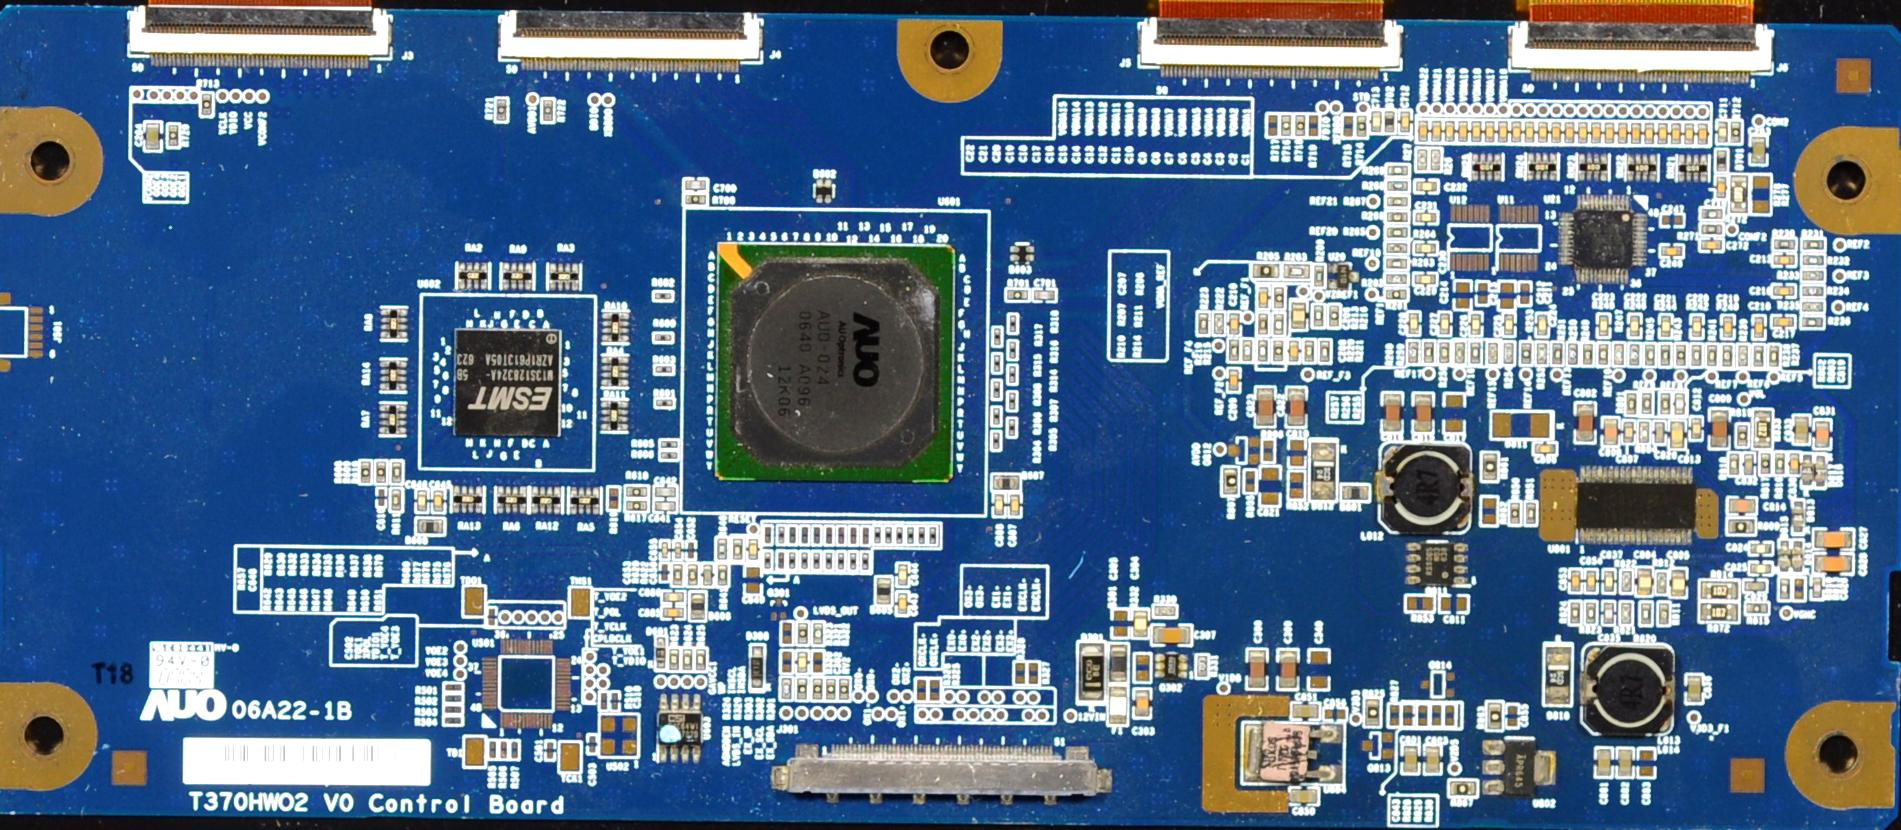Capacitor Jumper: (742, 565, 766, 601), (1260, 468, 1283, 502), (1814, 528, 1854, 548), (1255, 389, 1275, 425), (1153, 625, 1191, 645), (1576, 403, 1594, 443), (1248, 648, 1266, 688), (1383, 394, 1402, 433), (1414, 394, 1432, 433), (1749, 133, 1770, 165), (1288, 388, 1303, 427), (1286, 437, 1307, 466), (1311, 651, 1326, 688), (1280, 652, 1296, 689), (1711, 410, 1726, 446), (1616, 745, 1633, 778), (1290, 789, 1320, 807), (1113, 611, 1132, 639), (1132, 689, 1152, 717), (1793, 414, 1810, 446), (1439, 596, 1469, 613), (989, 491, 1005, 522), (1406, 311, 1425, 338), (1671, 420, 1686, 451), (1595, 746, 1610, 779), (1295, 700, 1319, 720), (1439, 309, 1455, 337), (1728, 498, 1756, 514), (1686, 676, 1702, 704), (1402, 744, 1417, 772), (1532, 310, 1549, 336), (1718, 315, 1735, 339), (1770, 254, 1798, 269), (1816, 422, 1831, 450), (1007, 492, 1022, 520), (1279, 110, 1292, 141), (415, 488, 430, 514), (1749, 542, 1775, 557), (1135, 612, 1151, 637), (1501, 315, 1518, 338), (744, 538, 761, 561), (661, 589, 687, 603), (795, 651, 810, 677), (1425, 745, 1439, 772), (1416, 179, 1440, 195), (145, 124, 160, 149), (1414, 273, 1439, 287), (1469, 310, 1484, 336), (432, 488, 446, 514), (1749, 562, 1775, 577), (668, 647, 683, 672), (693, 648, 708, 674), (684, 193, 710, 206), (1769, 314, 1796, 327), (1227, 311, 1240, 338), (1655, 422, 1668, 448), (685, 178, 709, 193), (1700, 239, 1724, 253), (1659, 313, 1672, 338), (1623, 420, 1637, 446), (1602, 600, 1615, 625), (1605, 418, 1617, 446), (700, 563, 714, 586), (1810, 577, 1825, 600), (1249, 437, 1260, 468), (1672, 393, 1688, 413), (1616, 120, 1629, 144), (1414, 241, 1438, 254), (1288, 339, 1301, 364), (1788, 452, 1802, 476), (896, 563, 909, 588), (778, 676, 792, 700), (1445, 115, 1456, 144), (681, 647, 693, 672), (814, 652, 826, 677), (1576, 120, 1589, 143), (1696, 122, 1709, 145), (1661, 244, 1684, 257), (1256, 287, 1269, 310), (781, 649, 794, 672), (1418, 116, 1429, 144), (1774, 284, 1794, 298), (1469, 118, 1482, 142), (1629, 313, 1642, 337), (1691, 314, 1703, 338), (1570, 568, 1582, 593), (662, 605, 686, 617), (1431, 115, 1442, 142), (1498, 115, 1509, 142), (1656, 122, 1669, 144), (1033, 288, 1055, 302), (1690, 417, 1703, 439), (896, 591, 909, 613), (1296, 110, 1306, 139), (1399, 110, 1411, 133), (1458, 116, 1469, 142), (1484, 116, 1495, 142), (1536, 119, 1547, 144), (1644, 121, 1655, 147), (1551, 118, 1562, 142), (1535, 443, 1557, 456), (660, 539, 672, 561), (782, 622, 794, 643), (1604, 121, 1615, 144), (1671, 121, 1682, 144), (1414, 212, 1437, 223), (1753, 315, 1764, 338), (1743, 454, 1754, 477), (1685, 119, 1695, 144), (1524, 121, 1535, 143), (1591, 122, 1602, 144), (1599, 315, 1610, 337), (1512, 118, 1522, 142), (1268, 111, 1277, 138), (656, 486, 677, 497), (1604, 568, 1614, 591), (1717, 119, 1726, 141), (1565, 120, 1574, 144), (1632, 121, 1640, 145), (1716, 173, 1724, 198), (675, 537, 684, 561), (1229, 370, 1238, 393), (1587, 569, 1595, 593), (655, 503, 675, 510)
Connector: (1484, 1, 1788, 87), (122, 2, 406, 70), (490, 13, 776, 74)
IC: (712, 241, 959, 480), (432, 302, 584, 465), (1576, 466, 1696, 546), (1553, 195, 1652, 288), (480, 639, 571, 727), (657, 693, 702, 763)
Resistor Jumper: (1700, 578, 1737, 601), (1699, 601, 1739, 622), (1751, 177, 1771, 213), (1363, 698, 1382, 729), (1732, 174, 1747, 214), (1729, 517, 1756, 537), (1404, 595, 1434, 612), (1289, 473, 1306, 500), (1621, 390, 1639, 416), (1486, 700, 1502, 729), (1482, 454, 1498, 481), (1797, 253, 1827, 268), (492, 93, 508, 121), (419, 520, 447, 536), (1354, 111, 1369, 141), (1702, 343, 1718, 370), (624, 483, 651, 499), (1252, 264, 1278, 280), (989, 350, 1005, 376), (714, 538, 731, 561), (1796, 300, 1827, 313), (1656, 344, 1674, 365), (1222, 466, 1235, 494), (1385, 286, 1410, 300), (824, 677, 839, 703), (812, 677, 827, 703), (1804, 236, 1827, 252), (373, 460, 389, 483), (794, 679, 810, 702), (1318, 338, 1331, 365), (1585, 601, 1598, 628), (1385, 241, 1409, 256), (389, 459, 404, 483), (390, 487, 403, 516), (991, 428, 1004, 453), (359, 459, 372, 485), (626, 499, 651, 513), (810, 521, 823, 546), (1735, 423, 1749, 446), (1005, 288, 1029, 302), (1640, 390, 1654, 414), (1654, 571, 1667, 595), (1745, 601, 1769, 614), (1657, 601, 1671, 625), (1720, 347, 1735, 368), (1659, 393, 1673, 414), (715, 563, 730, 585), (1509, 500, 1522, 526), (1774, 239, 1797, 252), (1501, 340, 1514, 364), (1620, 602, 1633, 625), (1385, 258, 1409, 270), (1802, 317, 1826, 330), (991, 405, 1003, 429), (1385, 165, 1411, 176), (1612, 343, 1626, 365), (1736, 343, 1749, 365), (542, 99, 554, 122), (1730, 120, 1742, 143), (1006, 339, 1018, 362), (1519, 342, 1531, 365), (1007, 390, 1020, 413), (1780, 578, 1792, 601), (814, 623, 826, 646), (839, 679, 851, 702), (1385, 198, 1410, 208), (1799, 285, 1825, 296), (1273, 284, 1284, 309), (993, 325, 1004, 350), (1570, 601, 1581, 626), (1551, 340, 1564, 361), (1271, 340, 1284, 361), (1642, 344, 1655, 365), (443, 714, 463, 727), (201, 92, 212, 116), (1387, 179, 1409, 191), (1804, 269, 1826, 281), (1312, 304, 1323, 328), (1330, 304, 1341, 328), (1198, 313, 1209, 337), (1007, 315, 1020, 337), (1406, 342, 1418, 364), (1488, 343, 1500, 365), (993, 380, 1004, 405), (1760, 452, 1772, 474), (1525, 500, 1536, 525), (1640, 602, 1652, 624), (798, 622, 810, 643), (1700, 224, 1723, 235), (1582, 343, 1593, 366), (1775, 452, 1786, 475), (837, 523, 847, 546), (926, 526, 937, 549), (906, 526, 917, 549), (732, 537, 743, 560), (687, 565, 698, 588), (498, 738, 509, 761), (1688, 344, 1700, 365), (443, 681, 463, 693), (1622, 569, 1632, 595), (1702, 207, 1720, 221), (1385, 227, 1406, 237), (1455, 342, 1466, 364), (861, 550, 872, 572), (443, 693, 464, 704), (489, 739, 499, 761), (169, 124, 178, 148), (1260, 311, 1269, 336), (1752, 344, 1764, 364), (861, 523, 869, 550), (1007, 417, 1018, 437), (847, 551, 858, 572), (1770, 343, 1780, 366), (674, 563, 684, 586), (1439, 343, 1450, 362), (787, 551, 798, 571), (509, 740, 520, 760), (1675, 342, 1684, 366), (1386, 274, 1406, 284), (1471, 343, 1480, 364), (1423, 343, 1433, 364), (837, 551, 846, 572), (443, 705, 463, 715), (1303, 342, 1314, 360), (761, 526, 772, 544), (775, 551, 786, 569), (799, 553, 810, 571), (1372, 110, 1381, 133), (1009, 364, 1017, 387), (1629, 344, 1639, 364), (777, 525, 787, 544), (917, 526, 926, 545), (1386, 213, 1408, 222), (1537, 343, 1547, 361), (1599, 345, 1609, 364), (1570, 344, 1579, 365), (872, 523, 880, 544), (812, 551, 821, 572), (895, 525, 903, 544), (827, 525, 834, 546), (852, 526, 860, 546), (801, 526, 809, 546), (824, 553, 833, 569), (884, 525, 891, 544), (789, 526, 797, 545), (765, 551, 772, 569)
Transistor: (1326, 259, 1358, 291)
